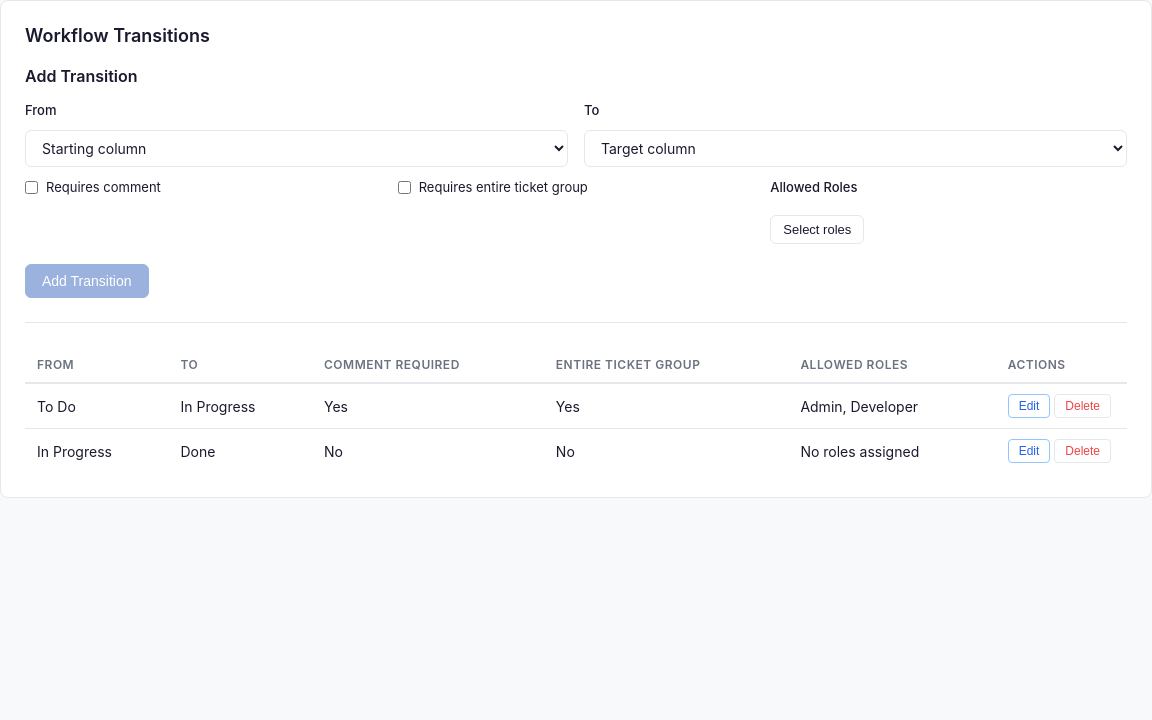
Test case: WorkflowSettings - Edit Modal › toggleEditRole adds a role when not selected
This screenshot has width=1152, height=720.
Click the button with class "edit-btn" in the row of "To Do": (1029, 406) [1008, 394, 1050, 418]
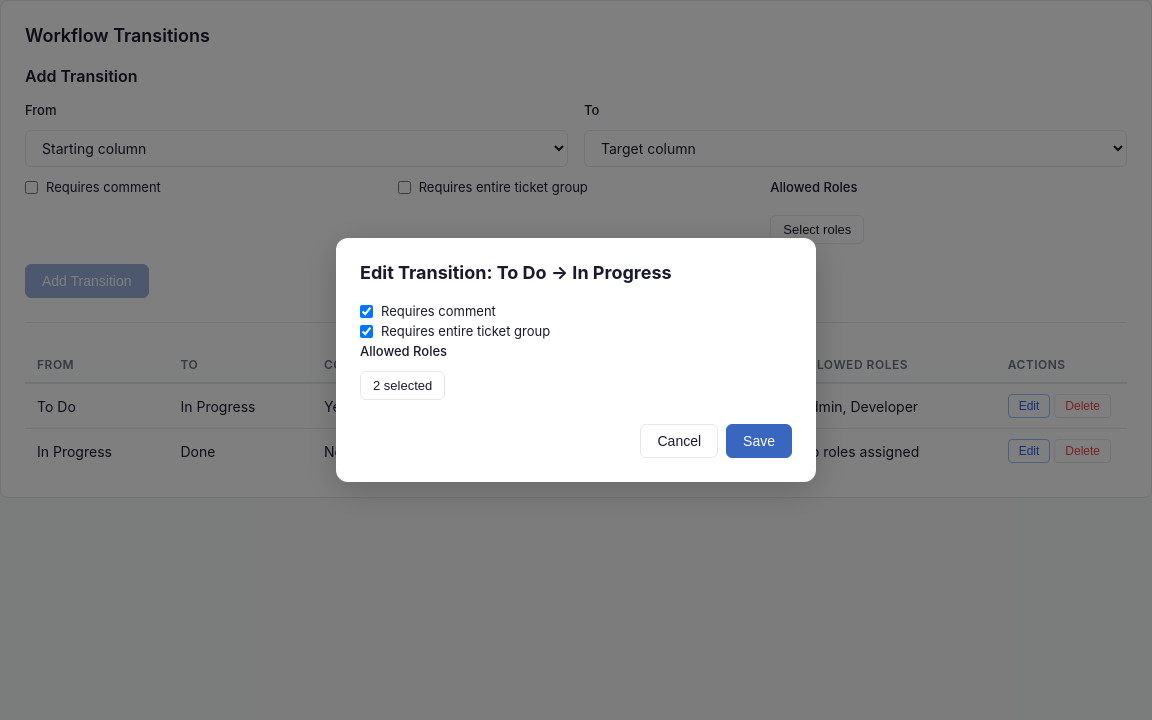
// Open the role picker
Click the button "2 selected": (403, 386) [360, 371, 445, 400]
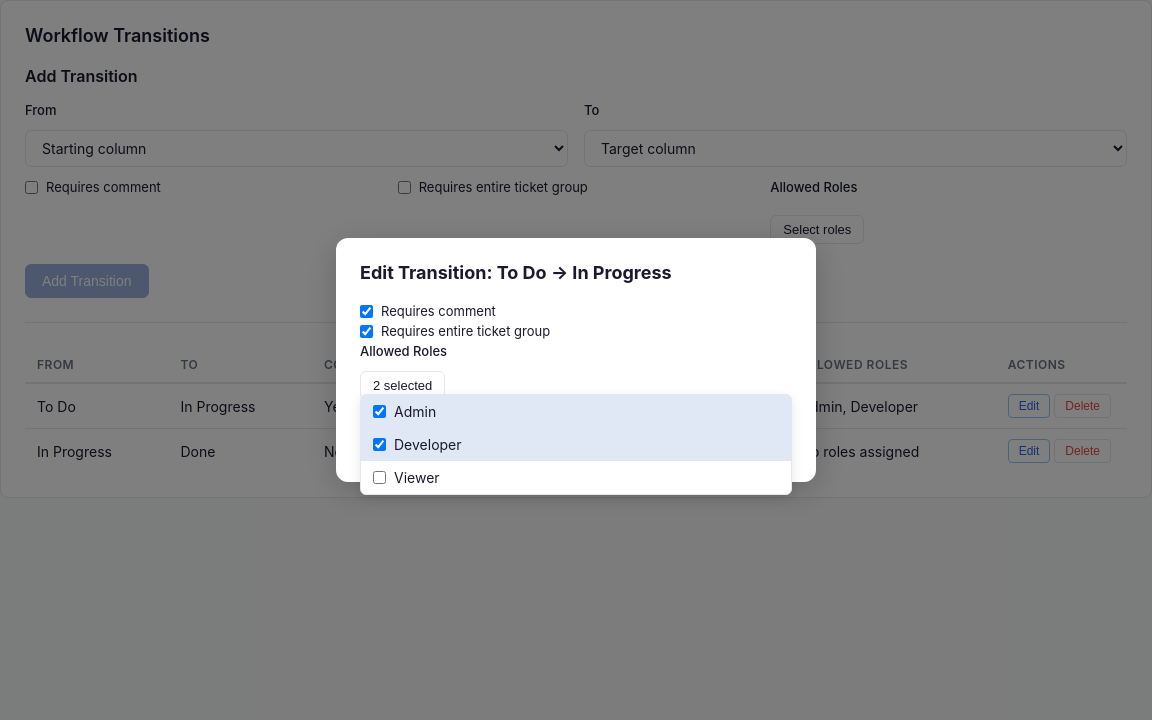
Click the element with class "role-option" showing "Viewer": (406, 478) [373, 469, 440, 486]
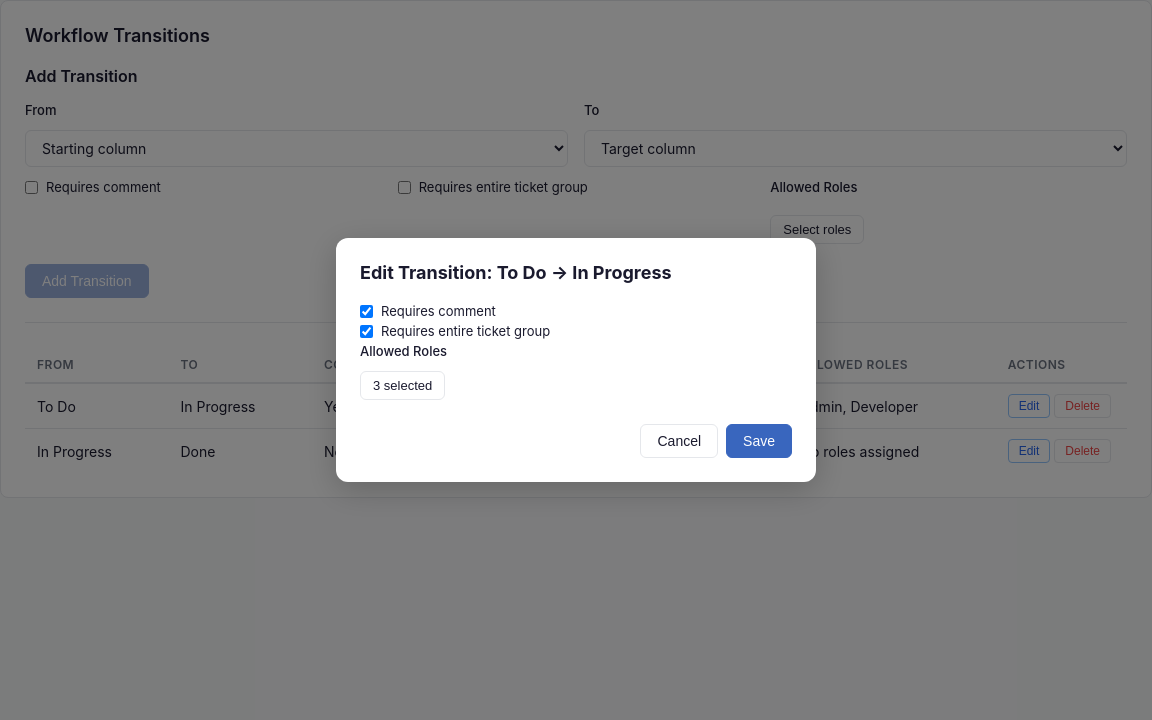
expect the button "3 selected" is shown: met, box [360, 371, 445, 400]
